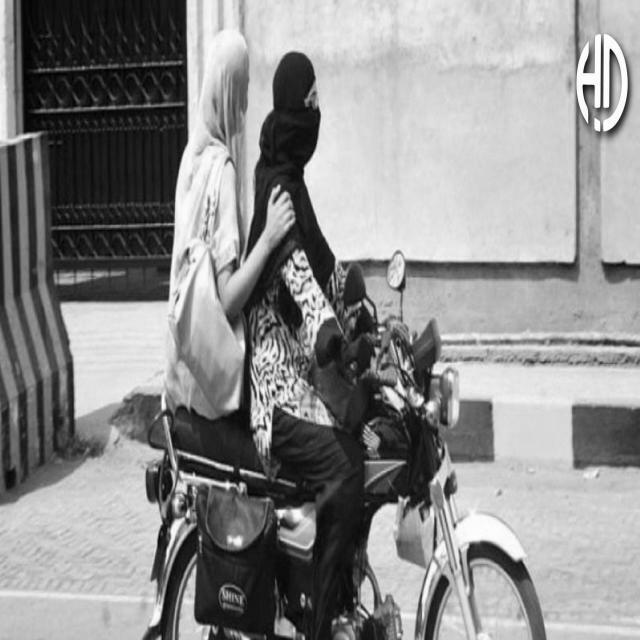Motorbike: (144, 31, 552, 640)
